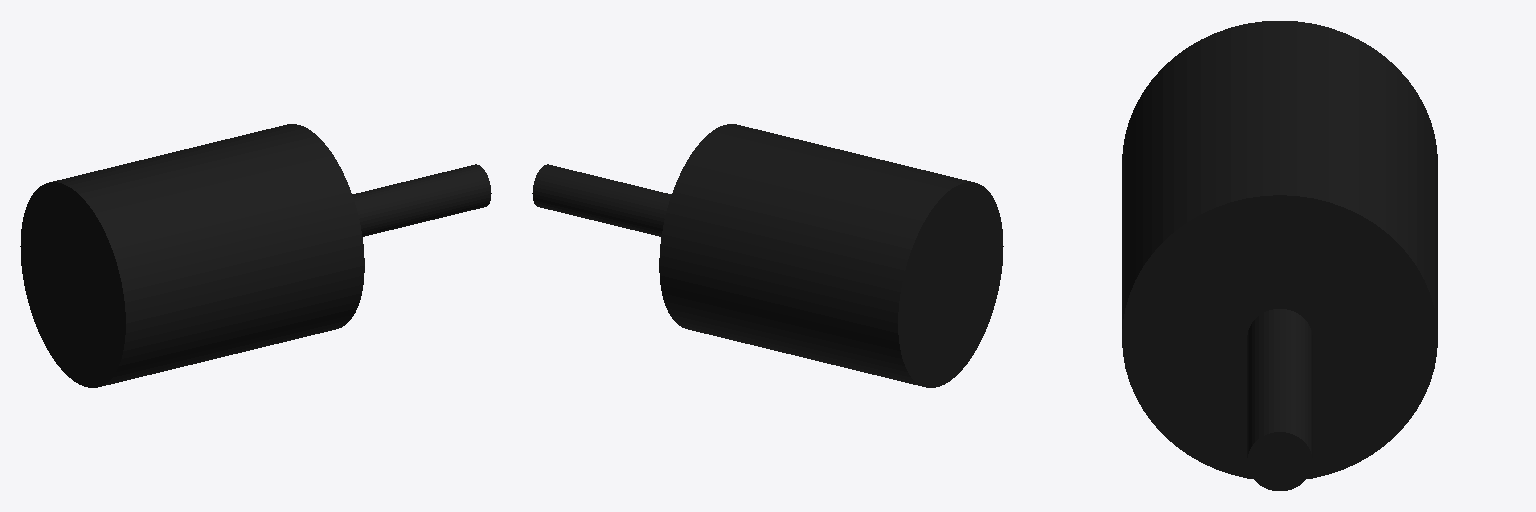
robot.urdf — fanuc_lrmate200id:
<?xml version="1.0" ?>
<!-- =================================================================================== -->
<!-- |    This document was autogenerated by xacro from lrmate200id.xacro              | -->
<!-- |    EDITING THIS FILE BY HAND IS NOT RECOMMENDED                                 | -->
<!-- =================================================================================== -->
<robot name="fanuc_lrmate200id" xmlns:xacro="http://ros.org/wiki/xacro">
  <link name="base_link">
    <visual>
      <origin rpy="0 0 0" xyz="0 0 0"/>
      <geometry>
        <mesh filename="package://fanuc_lrmate200id_support/meshes/lrmate200id/visual/base_link.stl"/>
      </geometry>
      <material name="">
        <color rgba="0.278 0.278 0.278 1.0"/>
      </material>
    </visual>
    <collision>
      <origin rpy="0 0 0" xyz="0 0 0"/>
      <geometry>
        <mesh filename="package://fanuc_lrmate200id_support/meshes/lrmate200id/collision/base_link.stl"/>
      </geometry>
    </collision>
  </link>
  <link name="link_1">
    <visual>
      <origin rpy="0 0 0" xyz="0 0 0"/>
      <geometry>
        <mesh filename="package://fanuc_lrmate200id_support/meshes/lrmate200id/visual/link_1.stl"/>
      </geometry>
      <material name="">
        <color rgba="0.96 0.76 0.13 1.0"/>
      </material>
    </visual>
    <collision>
      <origin rpy="0 0 0" xyz="0 0 0"/>
      <geometry>
        <mesh filename="package://fanuc_lrmate200id_support/meshes/lrmate200id/collision/link_1.stl"/>
      </geometry>
    </collision>
  </link>
  <link name="link_2">
    <visual>
      <origin rpy="0 0 0" xyz="0 0 0"/>
      <geometry>
        <mesh filename="package://fanuc_lrmate200id_support/meshes/lrmate200id/visual/link_2.stl"/>
      </geometry>
      <material name="">
        <color rgba="0.96 0.76 0.13 1.0"/>
      </material>
    </visual>
    <collision>
      <origin rpy="0 0 0" xyz="0 0 0"/>
      <geometry>
        <mesh filename="package://fanuc_lrmate200id_support/meshes/lrmate200id/collision/link_2.stl"/>
      </geometry>
    </collision>
  </link>
  <link name="link_3">
    <visual>
      <origin rpy="0 0 0" xyz="0 0 0"/>
      <geometry>
        <mesh filename="package://fanuc_lrmate200id_support/meshes/lrmate200id/visual/link_3.stl"/>
      </geometry>
      <material name="">
        <color rgba="0.96 0.76 0.13 1.0"/>
      </material>
    </visual>
    <collision>
      <origin rpy="0 0 0" xyz="0 0 0"/>
      <geometry>
        <mesh filename="package://fanuc_lrmate200id_support/meshes/lrmate200id/collision/link_3.stl"/>
      </geometry>
    </collision>
  </link>
  <link name="link_4">
    <visual>
      <origin rpy="0 0 0" xyz="0 0 0"/>
      <geometry>
        <mesh filename="package://fanuc_lrmate200id_support/meshes/lrmate200id/visual/link_4.stl"/>
      </geometry>
      <material name="">
        <color rgba="0.96 0.76 0.13 1.0"/>
      </material>
    </visual>
    <collision>
      <origin rpy="0 0 0" xyz="0 0 0"/>
      <geometry>
        <mesh filename="package://fanuc_lrmate200id_support/meshes/lrmate200id/collision/link_4.stl"/>
      </geometry>
    </collision>
  </link>
  <link name="link_5">
    <visual>
      <origin rpy="0 0 0" xyz="0 0 0"/>
      <geometry>
        <mesh filename="package://fanuc_lrmate200id_support/meshes/lrmate200id/visual/link_5.stl"/>
      </geometry>
      <material name="">
        <color rgba="0.96 0.76 0.13 1.0"/>
      </material>
    </visual>
    <collision>
      <origin rpy="0 0 0" xyz="0 0 0"/>
      <geometry>
        <mesh filename="package://fanuc_lrmate200id_support/meshes/lrmate200id/collision/link_5.stl"/>
      </geometry>
    </collision>
  </link>
  <link name="link_6">
    <visual>
      <origin rpy="0 0 0" xyz="-0.150 -0.0325 -0.0325"/>
      <geometry>
        <mesh filename="package://fanuc_lrmate200id_support/meshes/lrmate200id/visual/link_62.stl"/>
      </geometry>
      <material name="">
        <color rgba="0.15 0.15 0.15 1.0"/>
      </material>
    </visual>
    <collision>
      <origin rpy="0 0 0" xyz="-0.150 -0.0325 -0.0325"/>
      <geometry>
        <mesh filename="package://fanuc_lrmate200id_support/meshes/lrmate200id/collision/link_62.stl"/>
      </geometry>
    </collision>
  </link>
  <link name="tool0"/>
  <joint name="joint_1" type="revolute">
    <origin rpy="0 0 0" xyz="0 0 0.330"/>
    <parent link="base_link"/>
    <child link="link_1"/>
    <axis xyz="0 0 1"/>
    <limit effort="0" lower="-2.965" upper="2.965" velocity="7.85"/>
  </joint>
  <joint name="joint_2" type="revolute">
    <origin rpy="0 0 0" xyz="0.050 0 0"/>
    <parent link="link_1"/>
    <child link="link_2"/>
    <axis xyz="0 1 0"/>
    <limit effort="0" lower="-1.745329" upper="2.530727" velocity="6.63"/>
  </joint>
  <joint name="joint_3" type="revolute">
    <origin rpy="0 0 0" xyz="0 0 0.330"/>
    <parent link="link_2"/>
    <child link="link_3"/>
    <axis xyz="0 -1 0"/>
    <limit effort="0" lower="-2.450966" upper="4.886922" velocity="9.08"/>
  </joint>
  <joint name="joint_4" type="revolute">
    <origin rpy="0 0 0" xyz="0 0 0.035"/>
    <parent link="link_3"/>
    <child link="link_4"/>
    <axis xyz="-1 0 0"/>
    <limit effort="0" lower="-3.315" upper="3.315" velocity="9.60"/>
  </joint>
  <joint name="joint_5" type="revolute">
    <origin rpy="0 0 0" xyz="0.335 0 0"/>
    <parent link="link_4"/>
    <child link="link_5"/>
    <axis xyz="0 -1 0"/>
    <limit effort="0" lower="-2.18" upper="2.18" velocity="9.51"/>
  </joint>
  <joint name="joint_6" type="revolute">
    <origin rpy="0 0 0" xyz="0.200 0 0"/>
    <parent link="link_5"/>
    <child link="link_6"/>
    <axis xyz="1 0 0"/>
    <limit effort="0" lower="-6.285" upper="6.285" velocity="17.45"/>
  </joint>
  <joint name="joint_6-tool0" type="fixed">
    <origin rpy="3.1415926535 -1.570796327 0" xyz="0 0 0"/>
    <parent link="link_6"/>
    <child link="tool0"/>
  </joint>
  <link name="base"/>
  <joint name="base_link-base" type="fixed">
    <origin rpy="0 0 0" xyz="0 0 0.330"/>
    <parent link="base_link"/>
    <child link="base"/>
  </joint>
</robot>

--- Render facts (derived) ---
3 views of the same robot in one strip: view 1: azimuth 30°, elevation 25°; view 2: azimuth 150°, elevation 25°; view 3: azimuth 270°, elevation 25° (orthographic).
Robot: fanuc_lrmate200id — 9 links, 8 joints (6 revolute, 2 fixed); root link base_link; default pose: every joint at zero.
Links seen in each view (by area): view 1: link_6; view 2: link_6; view 3: link_6.
Boxes of the visible links, left/top/right/bottom form: link_6: left=20, top=124, right=491, bottom=387; link_6: left=532, top=124, right=1003, bottom=387; link_6: left=1122, top=21, right=1437, bottom=490.
Size in the robot's own frame: 0.145 by 0.065 by 0.065 metres.
1 mesh visuals loaded from 7 distinct referenced files (1 binary STL); not drawn: 6 (reference not matched to a file when rendering).